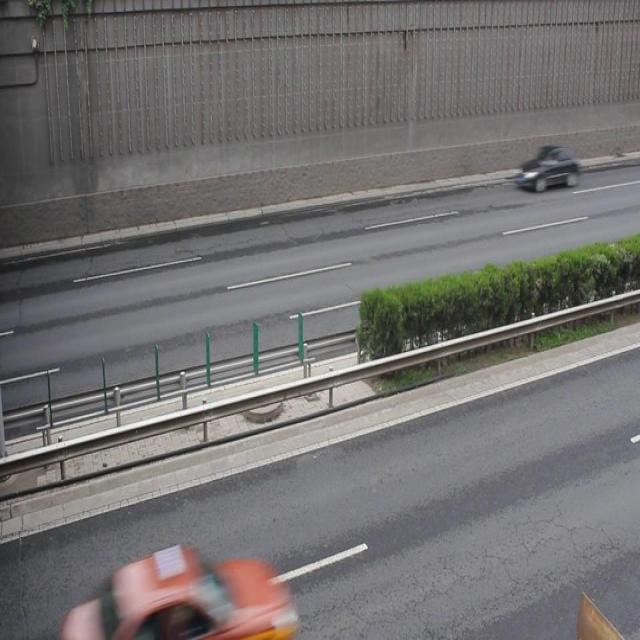car: (64, 544, 299, 640), (512, 141, 580, 191)
